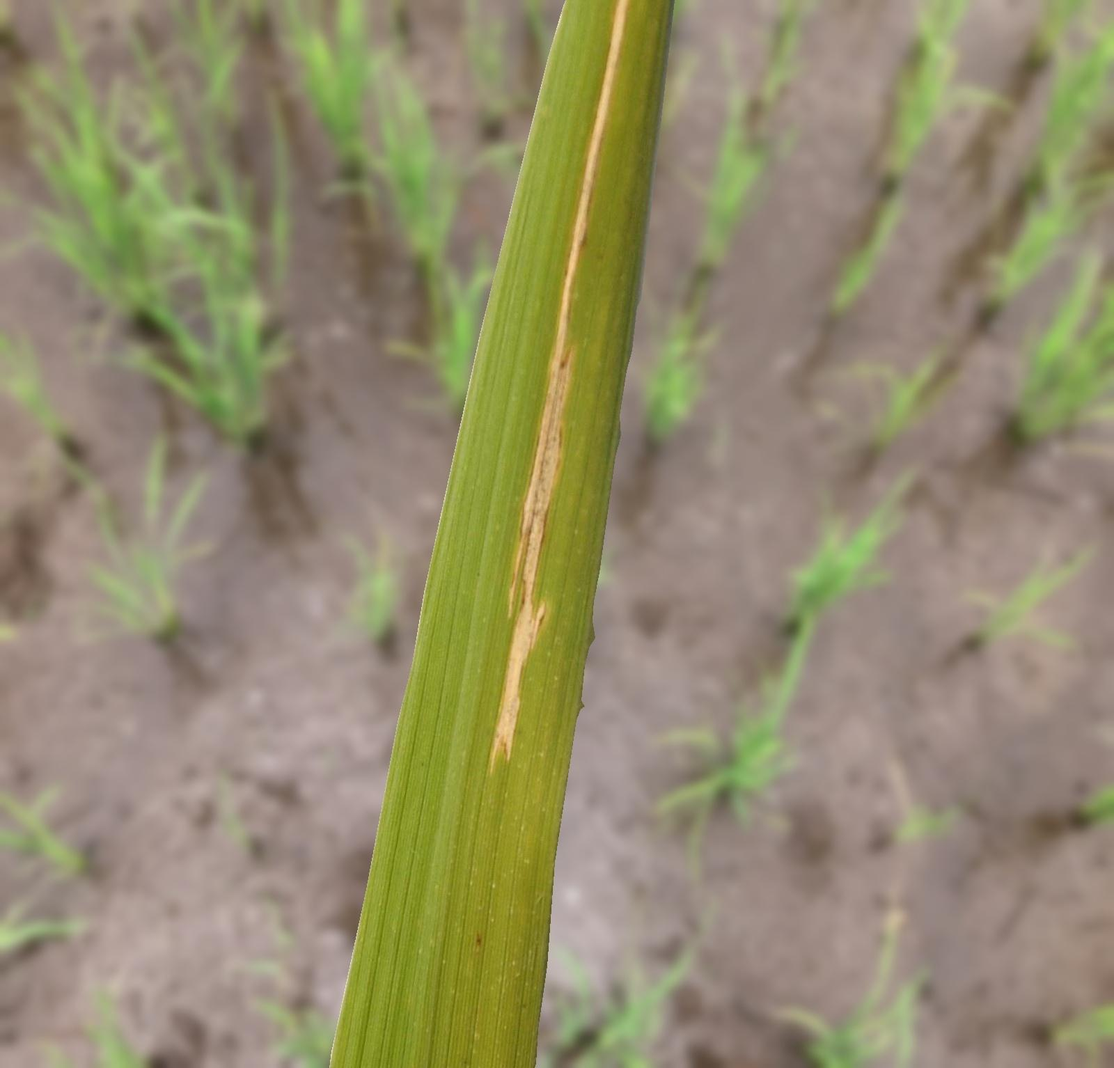BLS: (489, 0, 631, 772)
LEAF: (330, 0, 674, 1067)
